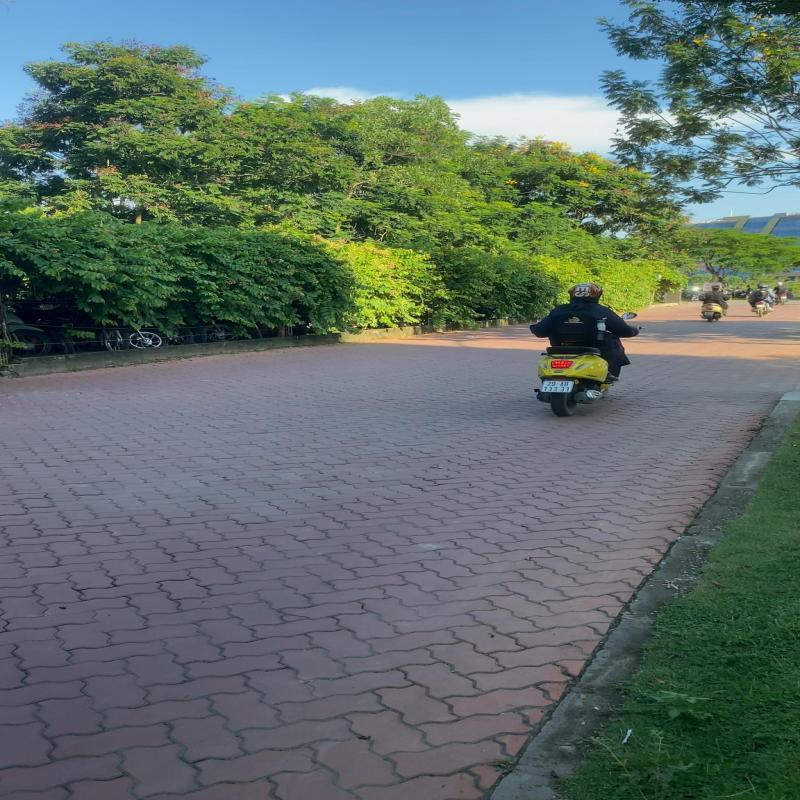helmet: (568, 282, 606, 302)
licenseplate: (540, 380, 575, 393), (704, 311, 714, 316)
motorcyclist: (528, 280, 648, 418), (697, 285, 731, 323)
nohelmet: (712, 286, 720, 290)
